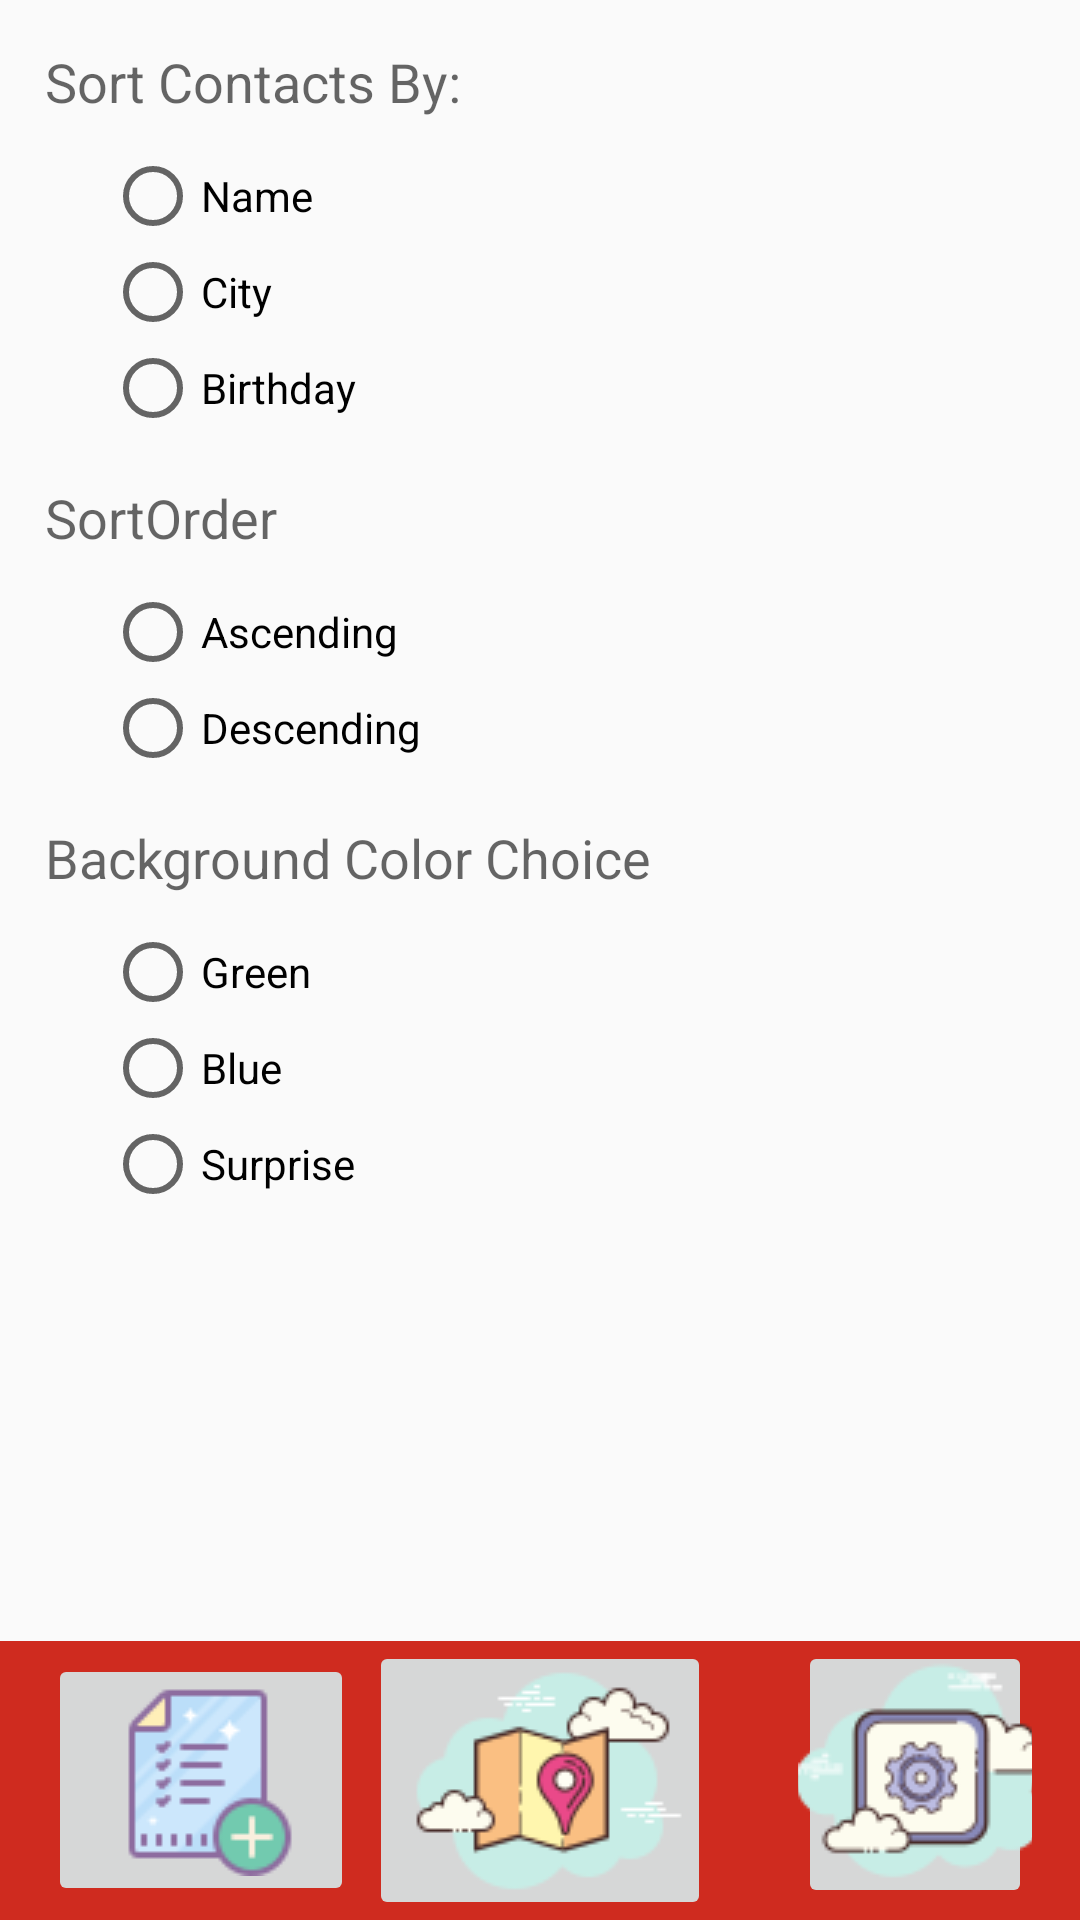

Named icons in this screenshot (1080px×1920px) and their bounding boxes, {"x1": x1, "y1": y1, "x2": x2, "y2": y2}:
add list: {"x1": 60, "y1": 1672, "x2": 342, "y2": 1888}
map marker: {"x1": 381, "y1": 1659, "x2": 699, "y2": 1902}
settings: {"x1": 798, "y1": 1659, "x2": 1032, "y2": 1890}
